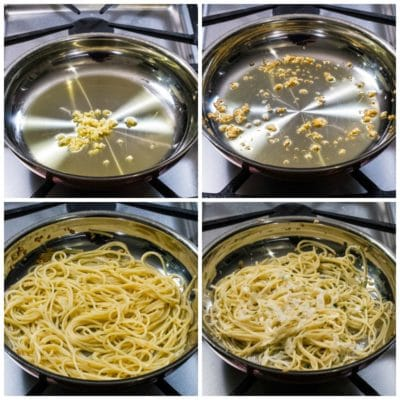plain spaghetti: (65, 257, 170, 360), (236, 265, 366, 341)
